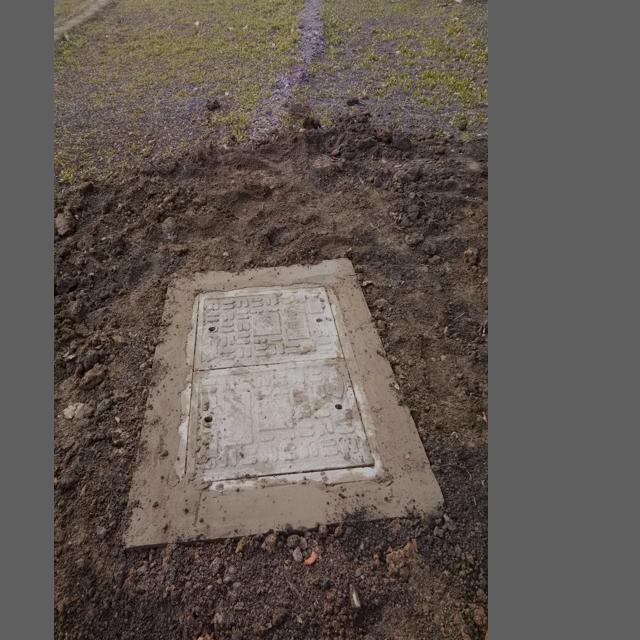good: (188, 280, 385, 486)
